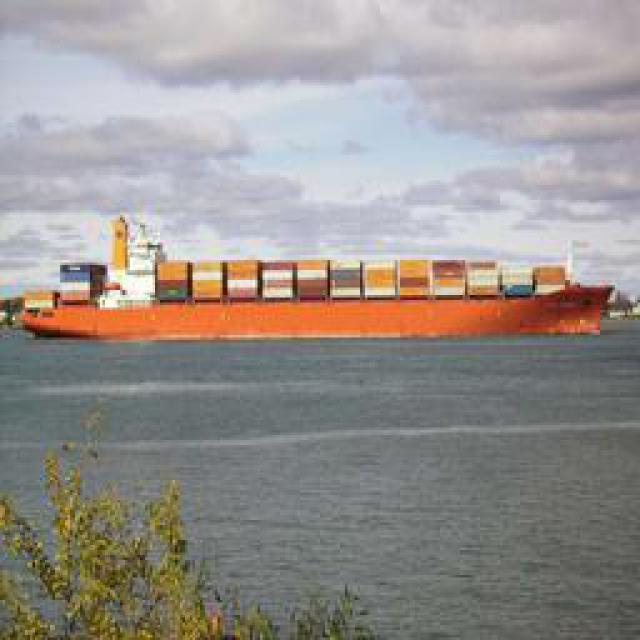Ship: (5, 251, 618, 339)
